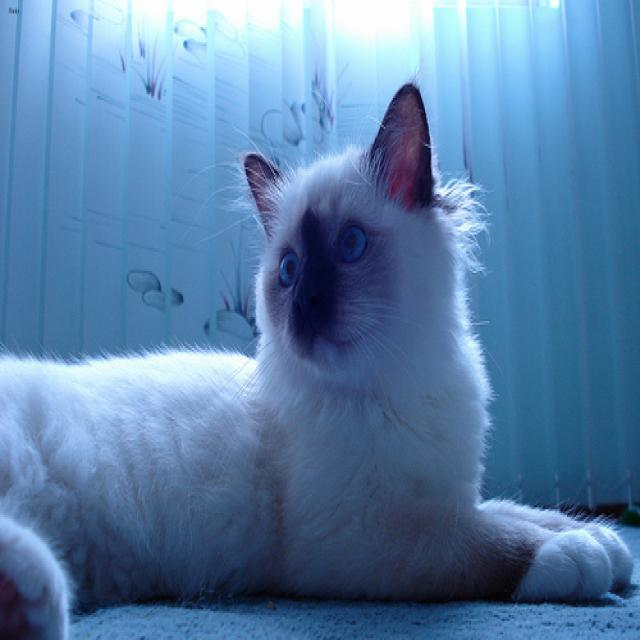Birman: (232, 74, 472, 417)
